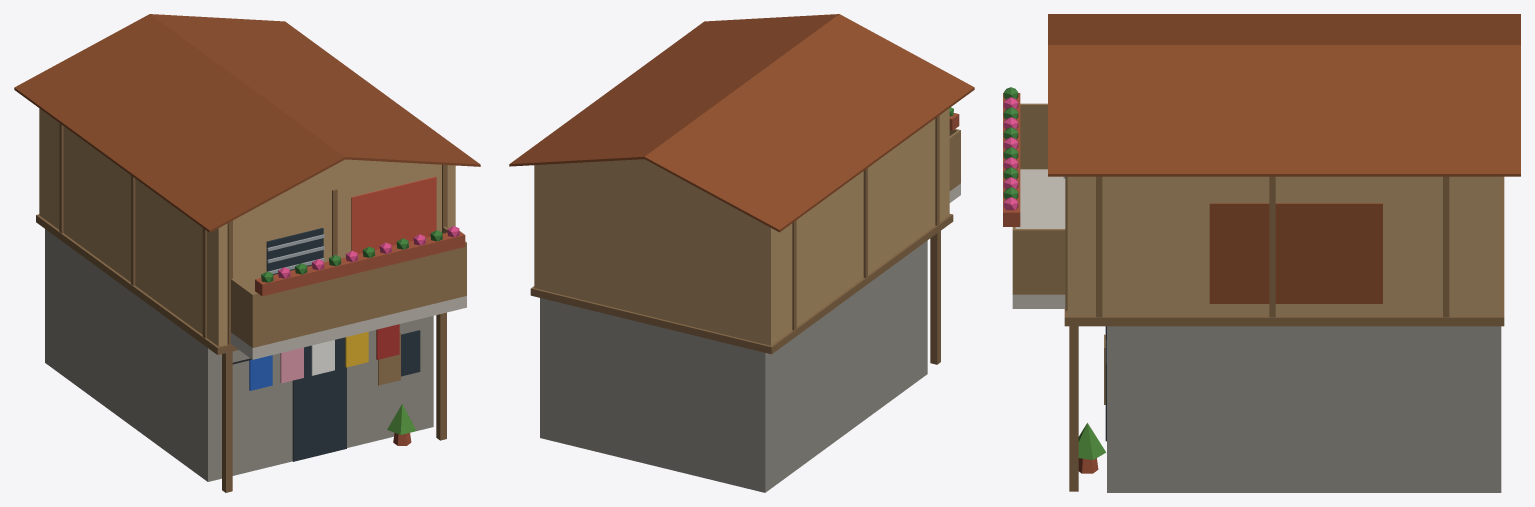
Rendered from BAY_I_Shanty2F_L.glb.
3 views of the same model, side by side, from view 1: azimuth 30°, elevation 25°; view 2: azimuth 150°, elevation 25°; view 3: azimuth 270°, elevation 25° (orthographic). The views are drawn at different scales.
Parts seen in each view (by area): view 1: BAY_I_Shanty2F_L; view 2: BAY_I_Shanty2F_L; view 3: BAY_I_Shanty2F_L.
Part boxes in pixels (left/top/right/bottom): BAY_I_Shanty2F_L: left=14, top=14, right=480, bottom=492; BAY_I_Shanty2F_L: left=509, top=14, right=974, bottom=492; BAY_I_Shanty2F_L: left=1003, top=14, right=1520, bottom=492.
Size of the model in its own units: 4.8 by 5.34 by 6.57.
1 material, 1 textured.
